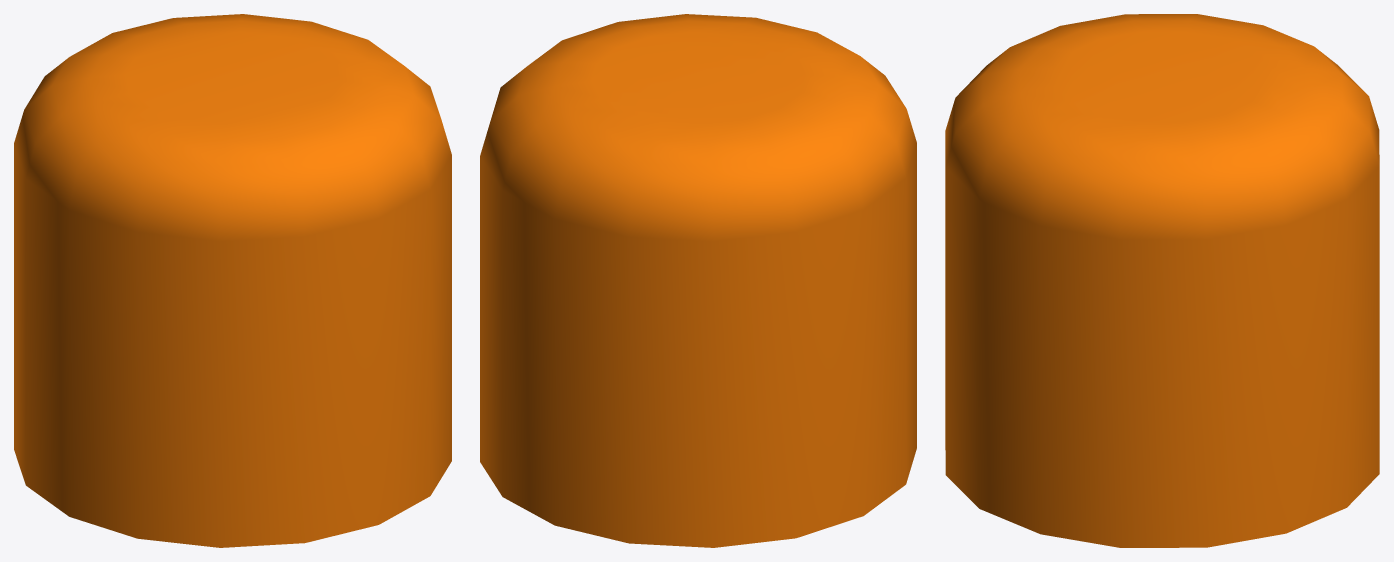
Rendered from Stool_Round_Mesh.fbx.
3 views of the same model, side by side, from view 1: azimuth 30°, elevation 25°; view 2: azimuth 150°, elevation 25°; view 3: azimuth 270°, elevation 25° (orthographic).
Visible parts, largest first — view 1: SeatPod; view 2: SeatPod; view 3: SeatPod.
Boxes of the visible parts, x1,y1,x2,y2 form: SeatPod: (14,14,451,547); SeatPod: (480,14,916,547); SeatPod: (945,14,1379,547).
Size of the model in its own units: 64.41 by 62.41 by 64.66.
